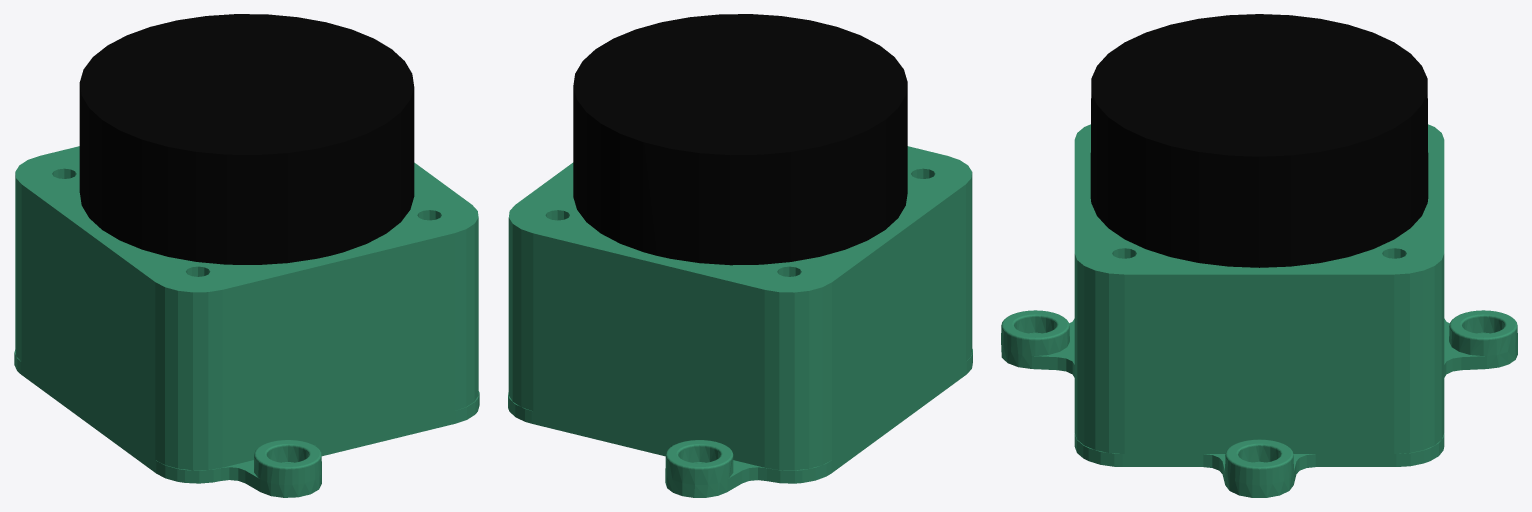
The model's file is lidar.dae.
3 renders of one model, left to right at view 1: azimuth 30°, elevation 25°; view 2: azimuth 150°, elevation 25°; view 3: azimuth 270°, elevation 25°, orthographic.
Visible parts, largest first — view 1: lidar; view 2: lidar; view 3: lidar.
Part boxes in pixels (x1,y1,x2,y2): lidar: (14,14,479,497); lidar: (508,14,972,497); lidar: (1001,14,1517,497).
Bounding box in the file's own units: 0.0463 × 0.054 × 0.035.
Materials: 1 (1 with a texture image).
